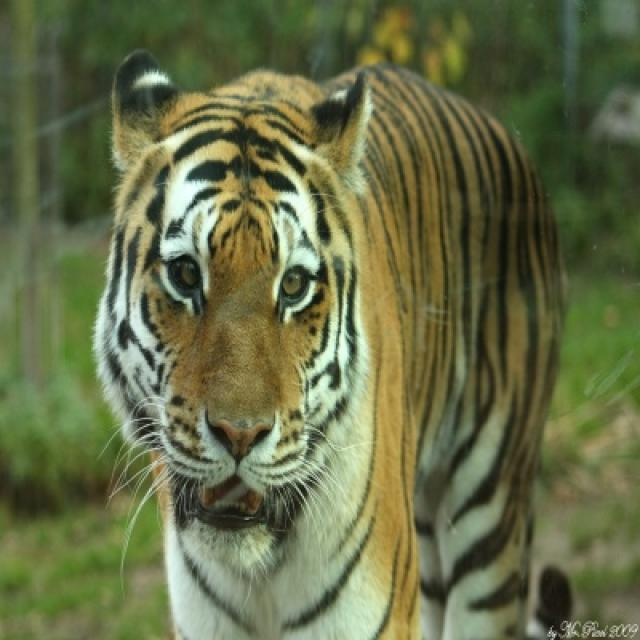Tiger: (95, 58, 568, 638)
